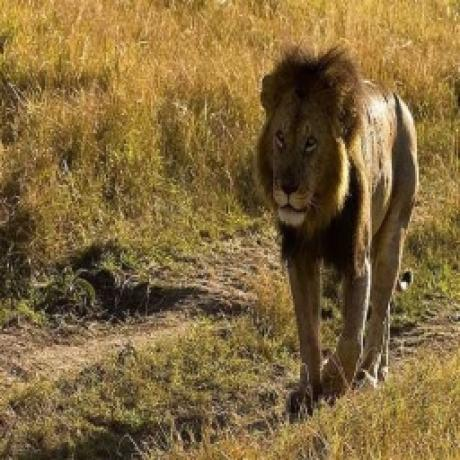Lion: (257, 50, 420, 417)
